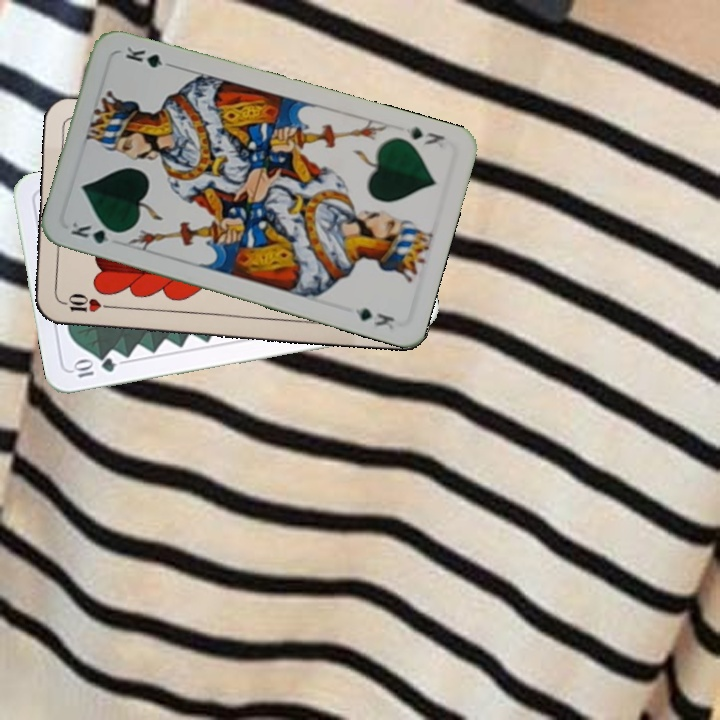G10: (69, 354, 119, 380)
GK: (66, 218, 125, 247), (401, 123, 448, 149)
H10: (57, 291, 116, 315)
